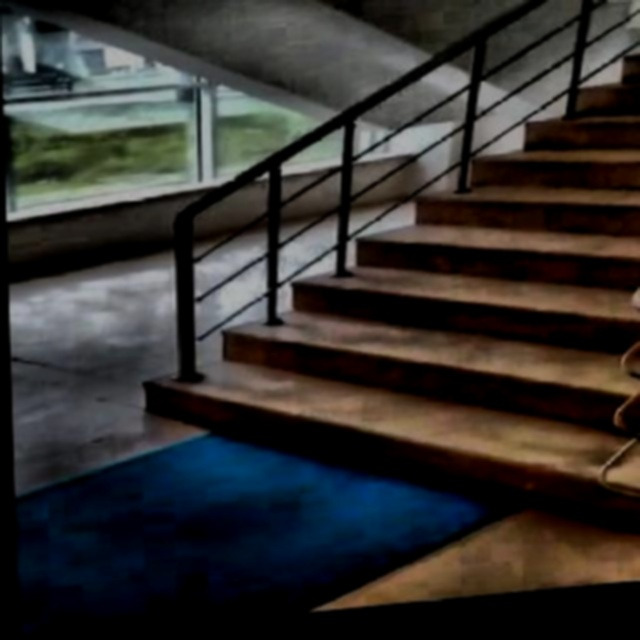stair: (100, 0, 638, 588)
